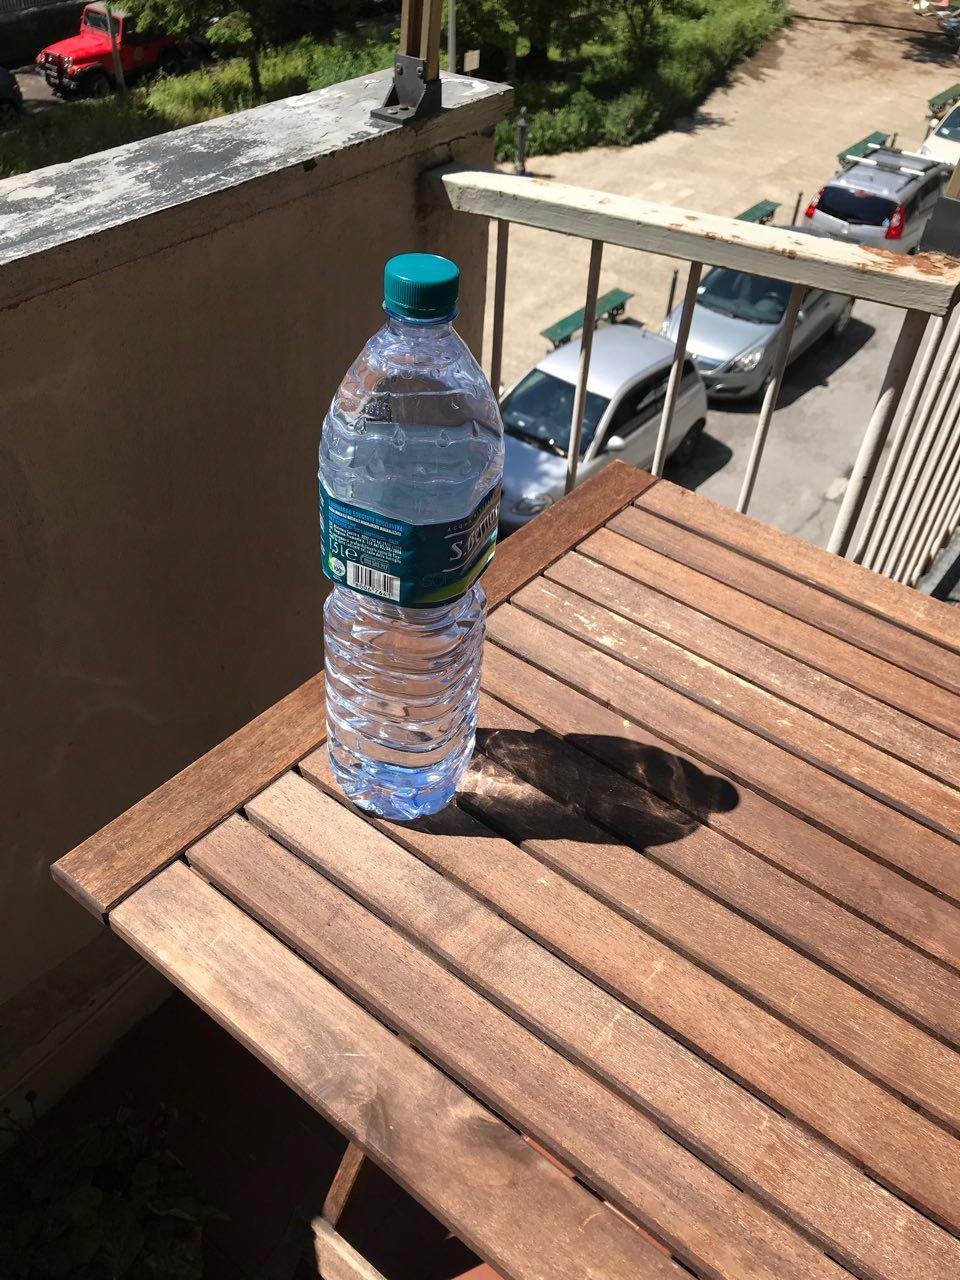san_bernardo: (316, 250, 504, 821)
